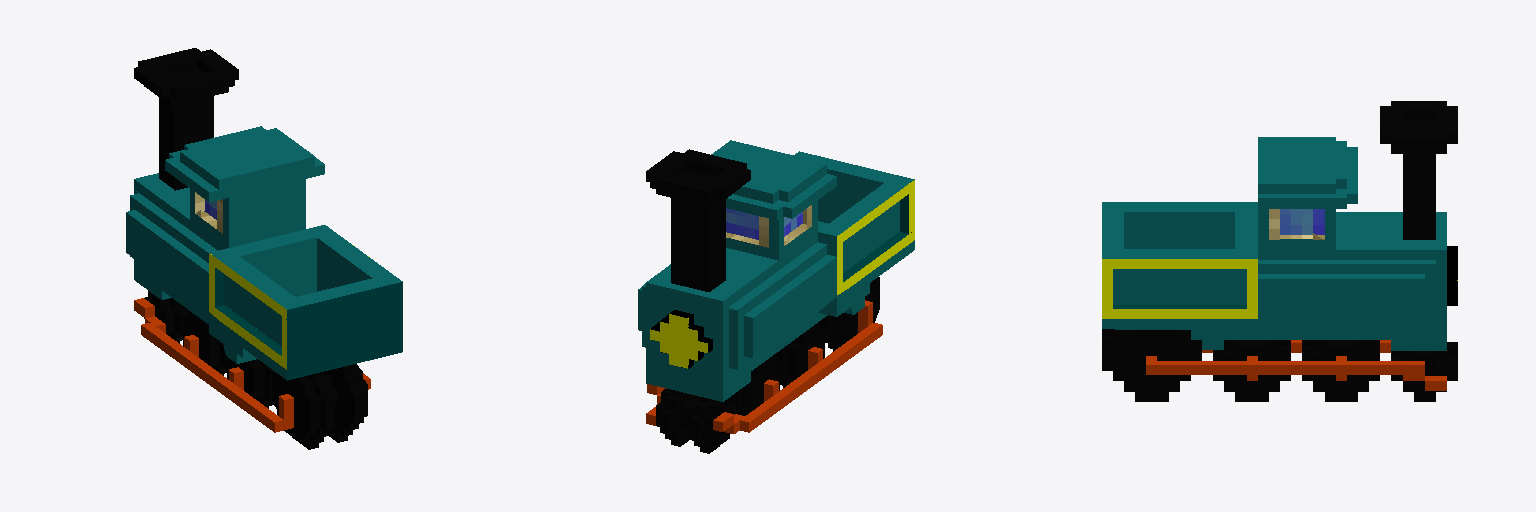
3 renders of one model, left to right at view 1: azimuth 30°, elevation 25°; view 2: azimuth 150°, elevation 25°; view 3: azimuth 270°, elevation 25°, orthographic.
Visible parts, largest first — view 1: trainCar, trainCab, Cube.28338, smokeStack, Cube.22485, Cube.25892, Cube.26293, Cube.22053, Cube.26165; view 2: Cube.28338, trainCar, trainCab, smokeStack, Cube.25892, Cube.26165, Cube.22053, Cube.22485, Cube.26293; view 3: Cube.28338, trainCar, trainCab, smokeStack, Cube.25892, Cube.22485, Cube.26293, Cube.22053, Cube.26165.
Boxes of the visible parts, x1,y1,x2,y2 form: trainCar: [209, 225, 402, 380]; trainCab: [165, 126, 324, 247]; Cube.28338: [126, 173, 226, 323]; smokeStack: [134, 48, 238, 190]; Cube.22485: [272, 364, 367, 449]; Cube.25892: [134, 298, 370, 432]; Cube.26293: [183, 310, 226, 375]; Cube.22053: [227, 357, 273, 408]; Cube.26165: [144, 291, 187, 343]; Cube.28338: [638, 232, 836, 401]; trainCar: [794, 151, 914, 321]; trainCab: [711, 140, 836, 260]; smokeStack: [646, 149, 750, 291]; Cube.25892: [646, 300, 882, 433]; Cube.26165: [656, 388, 735, 453]; Cube.22053: [776, 322, 824, 387]; Cube.22485: [819, 277, 879, 351]; Cube.26293: [731, 354, 779, 415]; Cube.28338: [1258, 212, 1457, 350]; trainCar: [1102, 202, 1257, 349]; trainCab: [1258, 137, 1357, 249]; smokeStack: [1380, 101, 1457, 239]; Cube.25892: [1146, 340, 1446, 390]; Cube.22485: [1102, 329, 1201, 401]; Cube.26293: [1302, 340, 1379, 401]; Cube.22053: [1213, 340, 1290, 401]; Cube.26165: [1391, 342, 1457, 401].
Bounding box in the file's own units: 1.5 × 3.38 × 4.
5 materials, 3 textured.